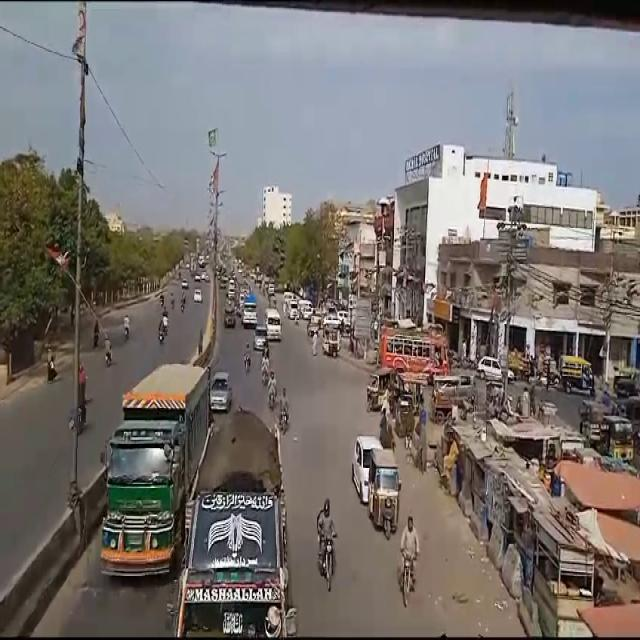truck: (95, 356, 209, 572)
